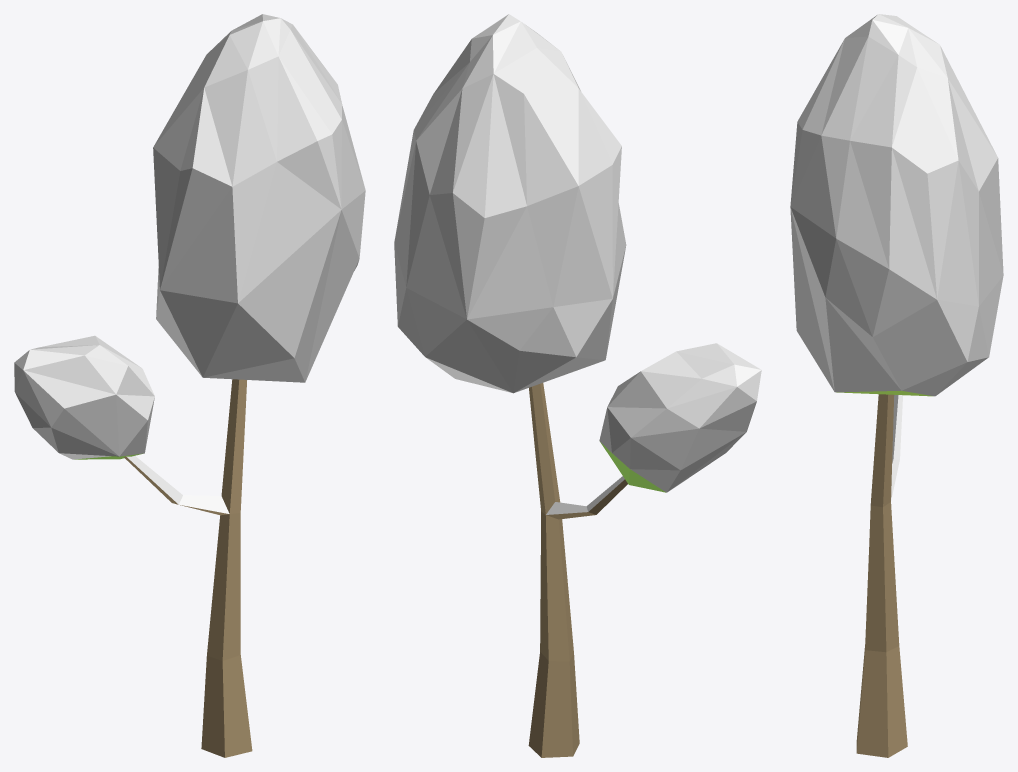
The model's file is Random_Tree_m_Snow_03.fbx.
3 renders of one model, left to right at view 1: azimuth 30°, elevation 25°; view 2: azimuth 150°, elevation 25°; view 3: azimuth 270°, elevation 25°, orthographic. The views are drawn at different scales.
Parts seen in each view (by area): view 1: Random_Tree_m_Snow_03; view 2: Random_Tree_m_Snow_03; view 3: Random_Tree_m_Snow_03.
Part boxes in pixels (box(x1,y1,x2,y2)): Random_Tree_m_Snow_03: box(14, 14, 365, 757); Random_Tree_m_Snow_03: box(394, 14, 761, 757); Random_Tree_m_Snow_03: box(790, 14, 1003, 757).
Size of the model in its own units: 446 by 890 by 229.
